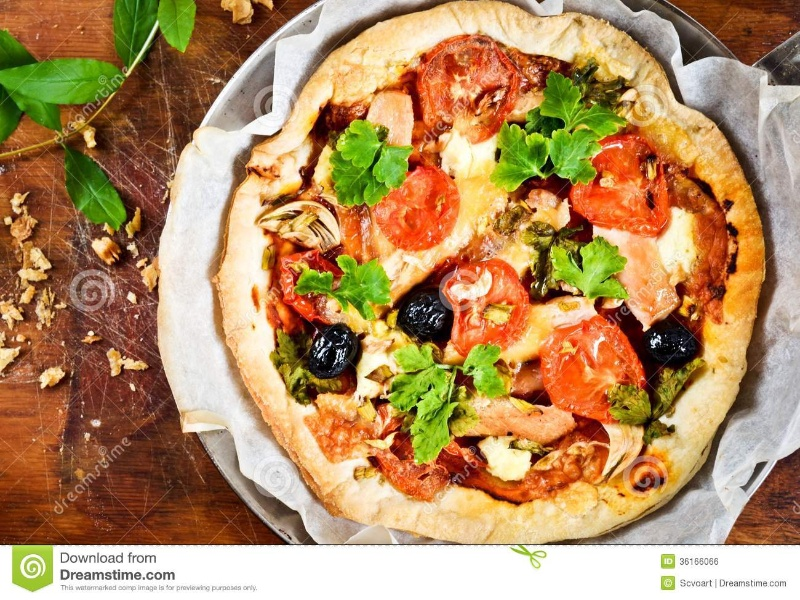olive noir: (286, 315, 366, 384), (640, 313, 710, 365), (399, 286, 460, 342)
